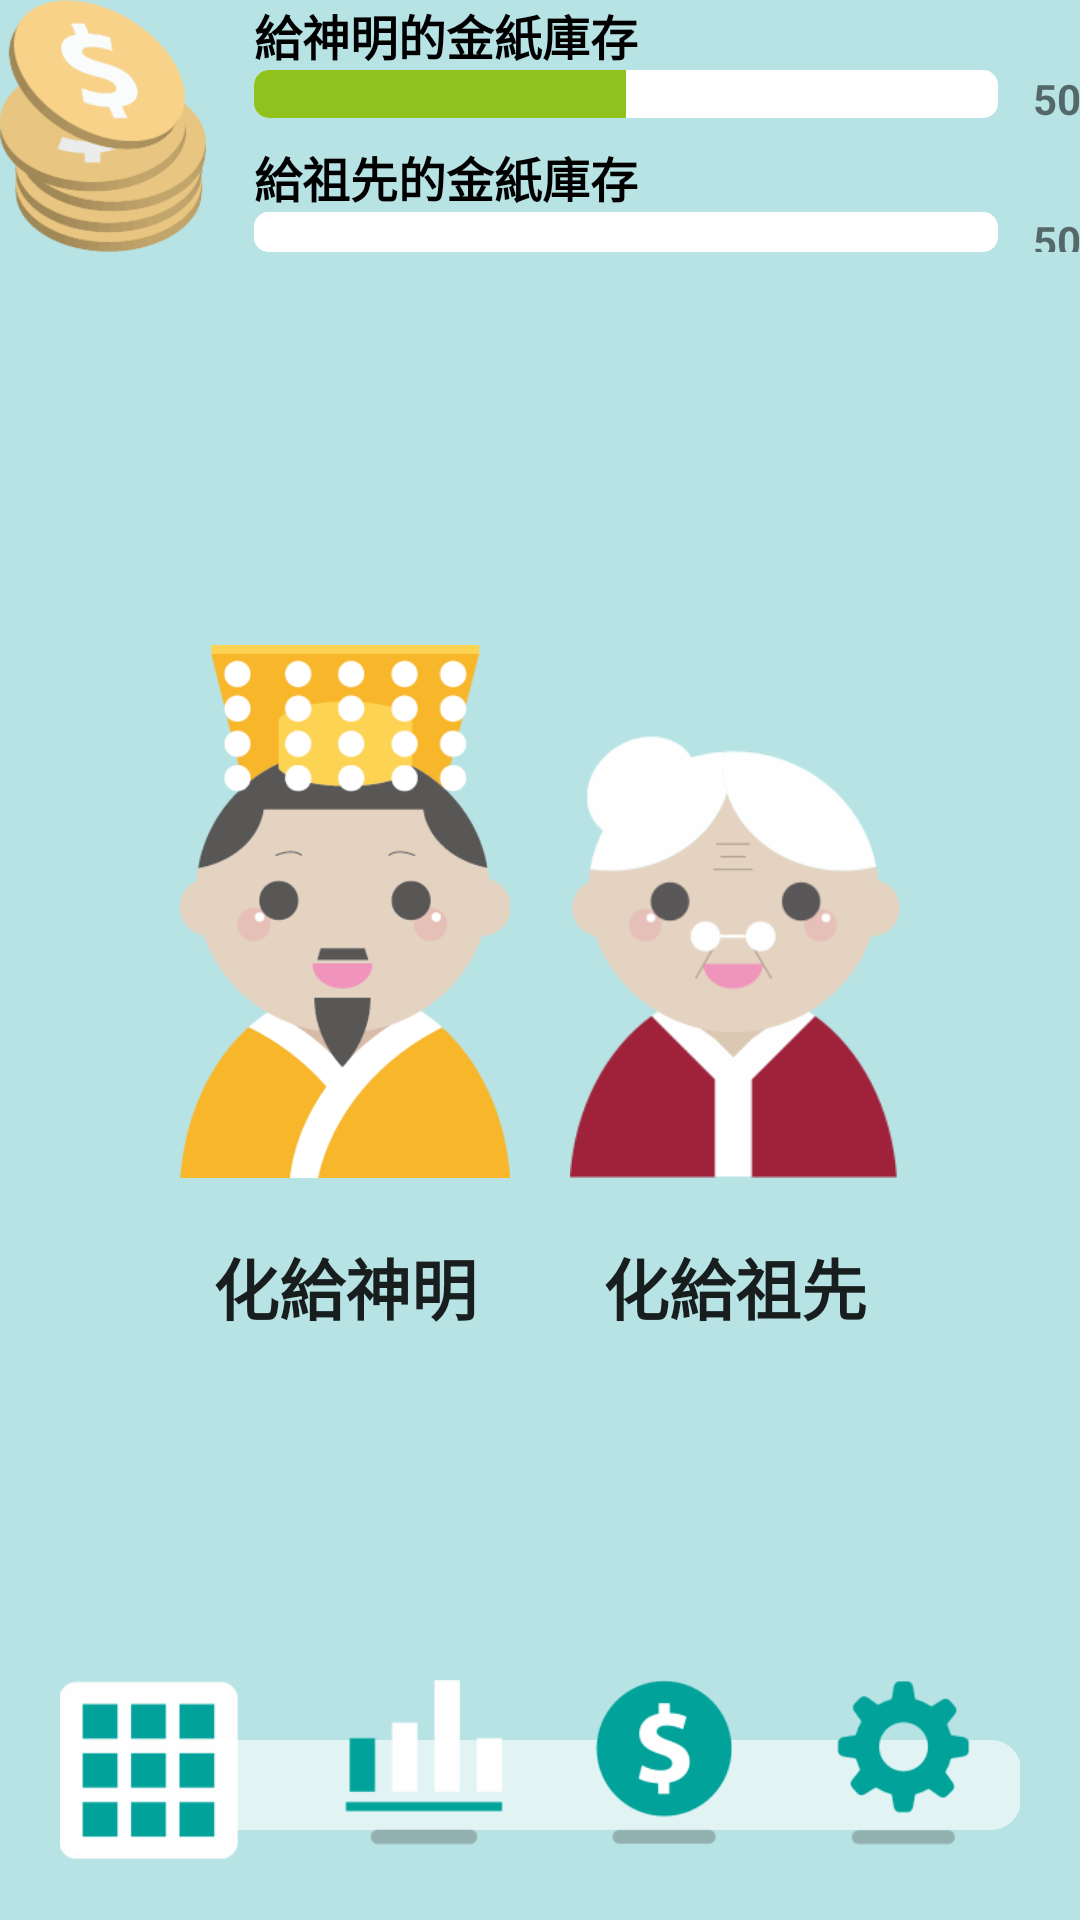

Icons on this 1080w x 1920h Android screen, each with the point to tap as (x,y):
chart: (423,1762)
coins: (103,126)
menu: (149,1770)
plus money: (663,1762)
setting: (903,1762)
